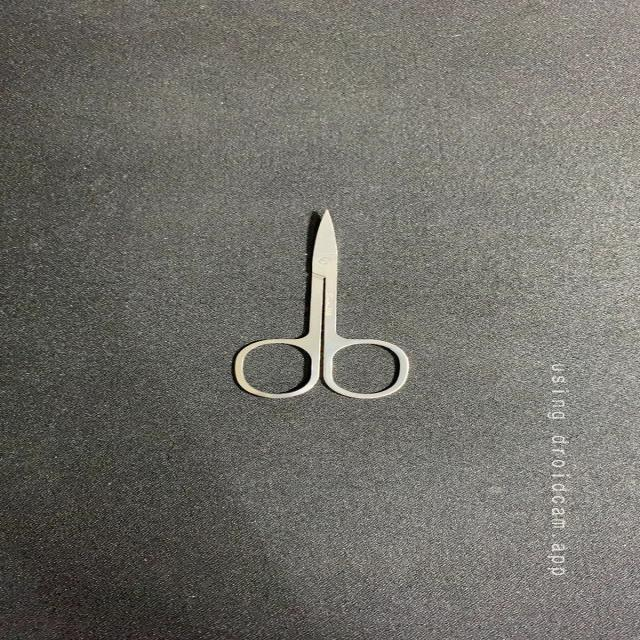scissor: (214, 205, 414, 401)
